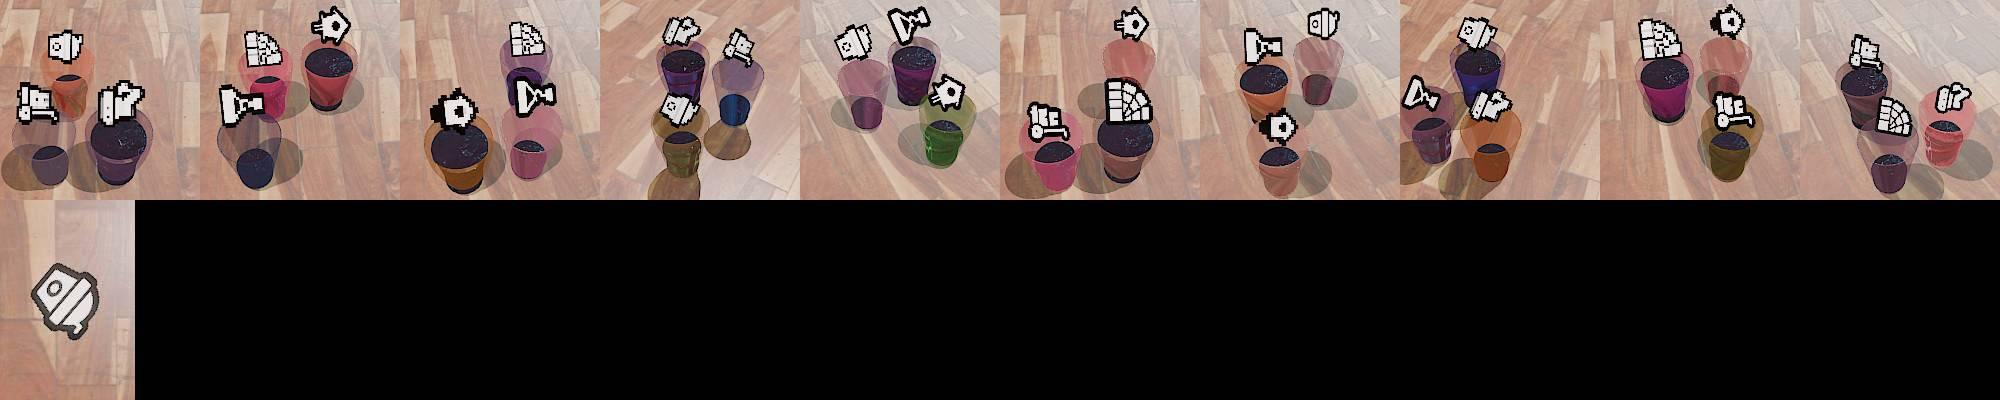icon: (31, 262, 101, 339), (96, 79, 147, 129), (1105, 76, 1153, 124), (430, 87, 481, 130), (14, 80, 60, 126), (218, 83, 267, 126), (1024, 98, 1071, 141), (1638, 17, 1682, 61), (511, 76, 557, 117), (310, 4, 352, 47), (886, 5, 932, 45), (1466, 88, 1513, 124), (242, 29, 284, 69), (1713, 90, 1754, 130), (1244, 27, 1284, 65), (834, 22, 872, 62), (1455, 15, 1497, 52), (657, 92, 702, 126), (927, 71, 966, 111), (1875, 94, 1912, 135), (1402, 74, 1440, 111), (508, 20, 546, 57), (1709, 4, 1746, 42), (1259, 110, 1298, 145), (1112, 5, 1149, 42), (722, 27, 756, 65), (47, 29, 85, 64), (661, 15, 702, 47), (1306, 6, 1341, 41), (1937, 80, 1974, 112), (1849, 33, 1881, 69)
